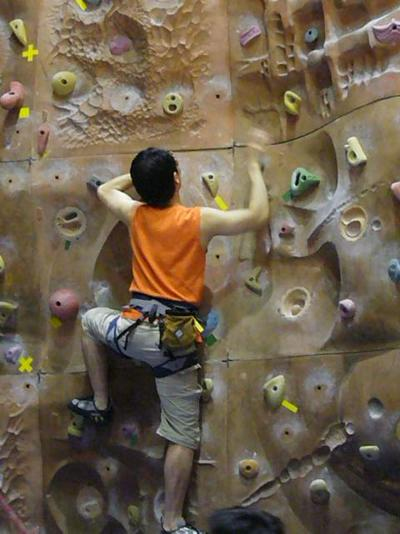person: (69, 146, 270, 533)
